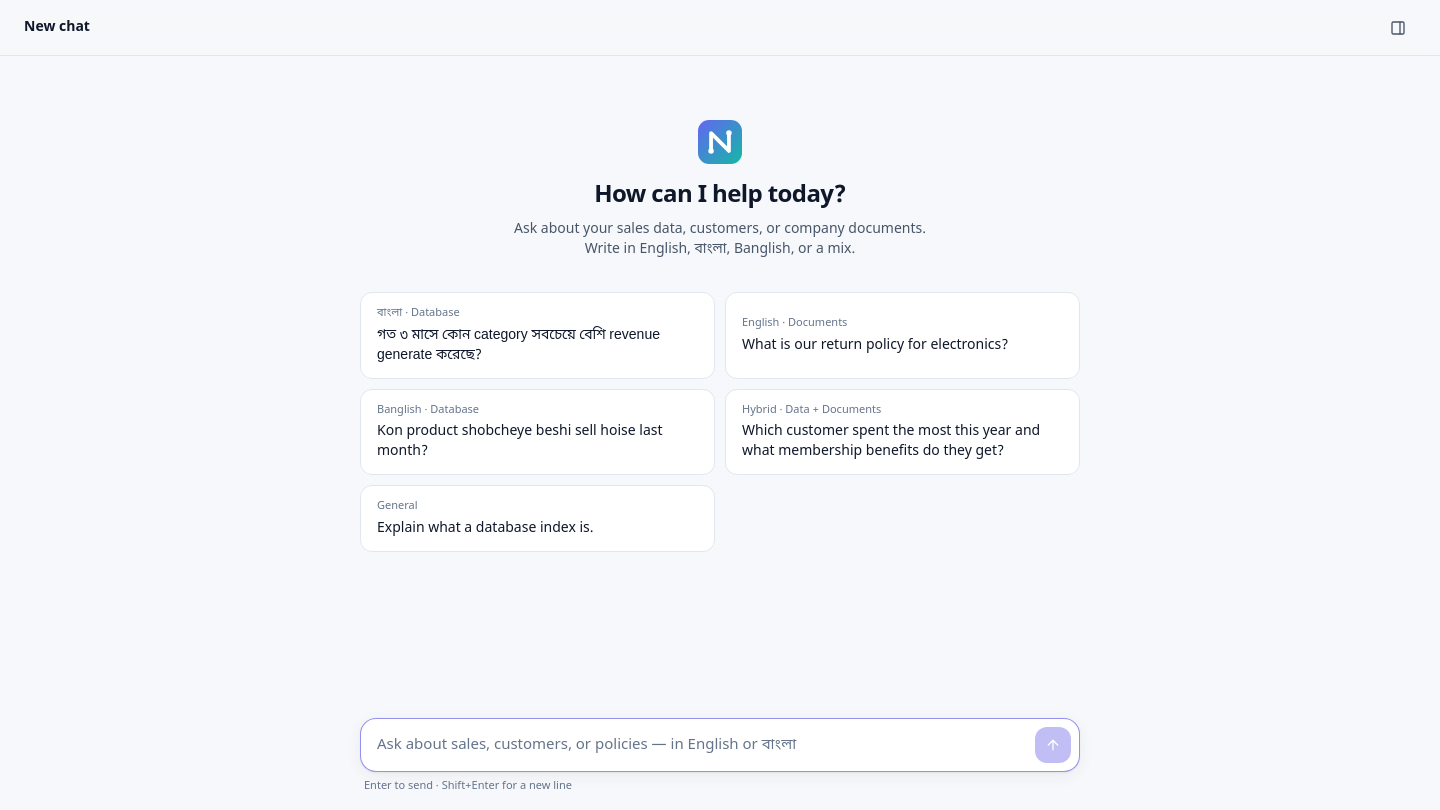
ChatPage streaming › shows an error bubble with Retry that re-sends the last message
This screenshot has width=1440, height=810.
Type "Kon product shobcheye beshi sell hoise?" into the text box named "Message" at (720, 744), box 361,718 -> 1079,770
Then press Enter
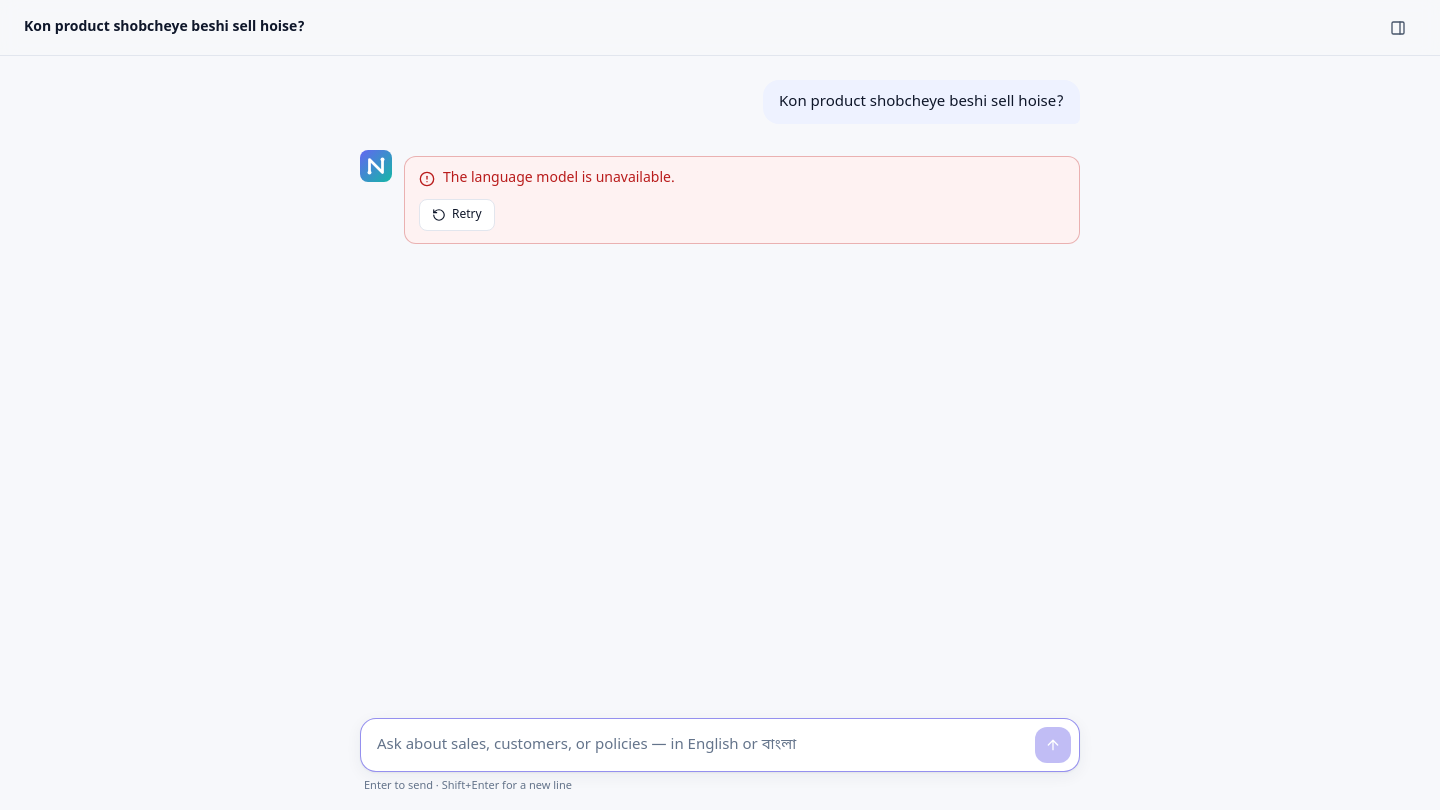
Now the text "The language model is unavailable." is shown, box 419,169 -> 675,188
Click the button "Retry" at (457, 215), box 419,199 -> 495,231
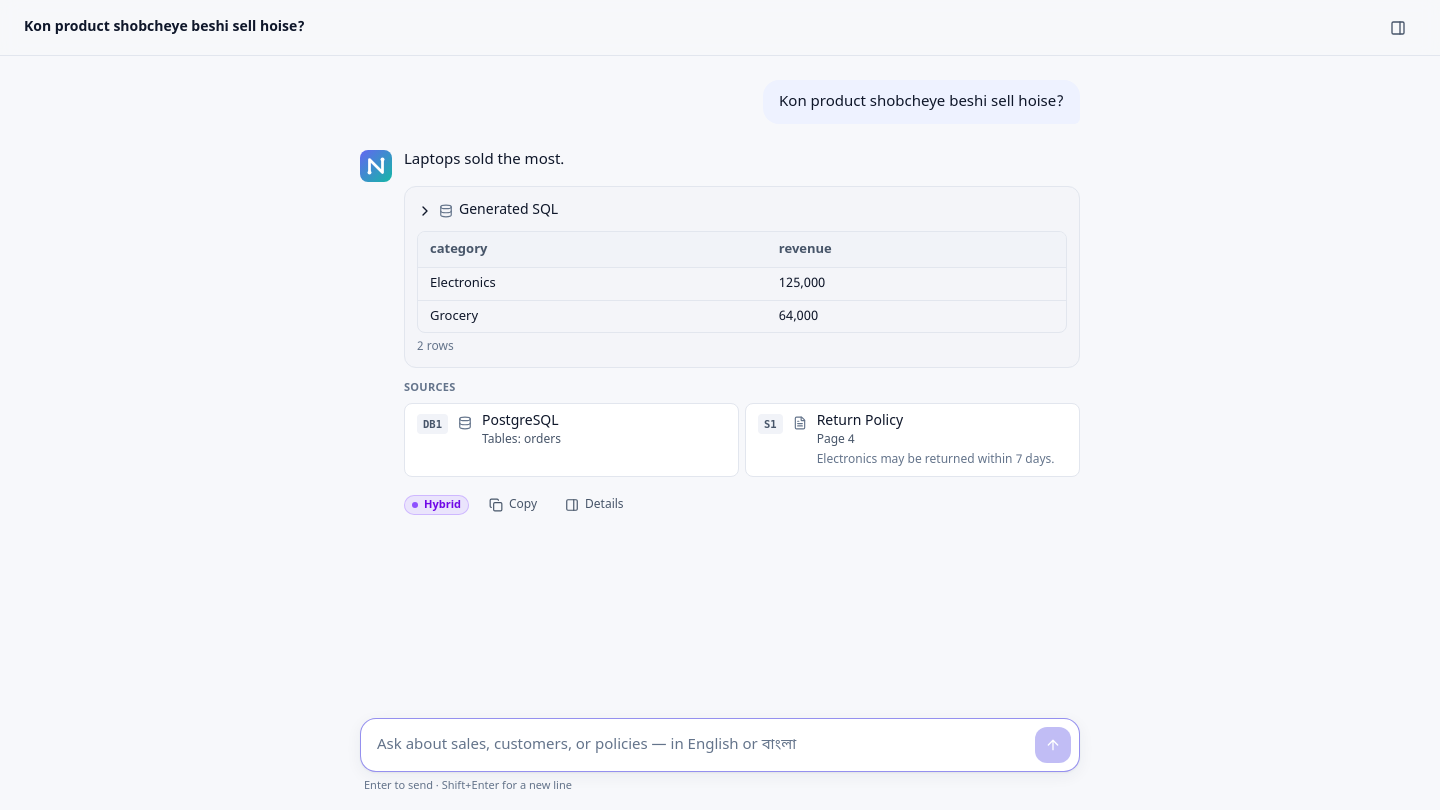
Now the number of elements named "Your message" is 1, box 763,80 -> 1080,124
Now the message "The language model is unavailable. Retry" is gone
Now the text "Laptops sold the most." is shown, box 404,150 -> 564,170
